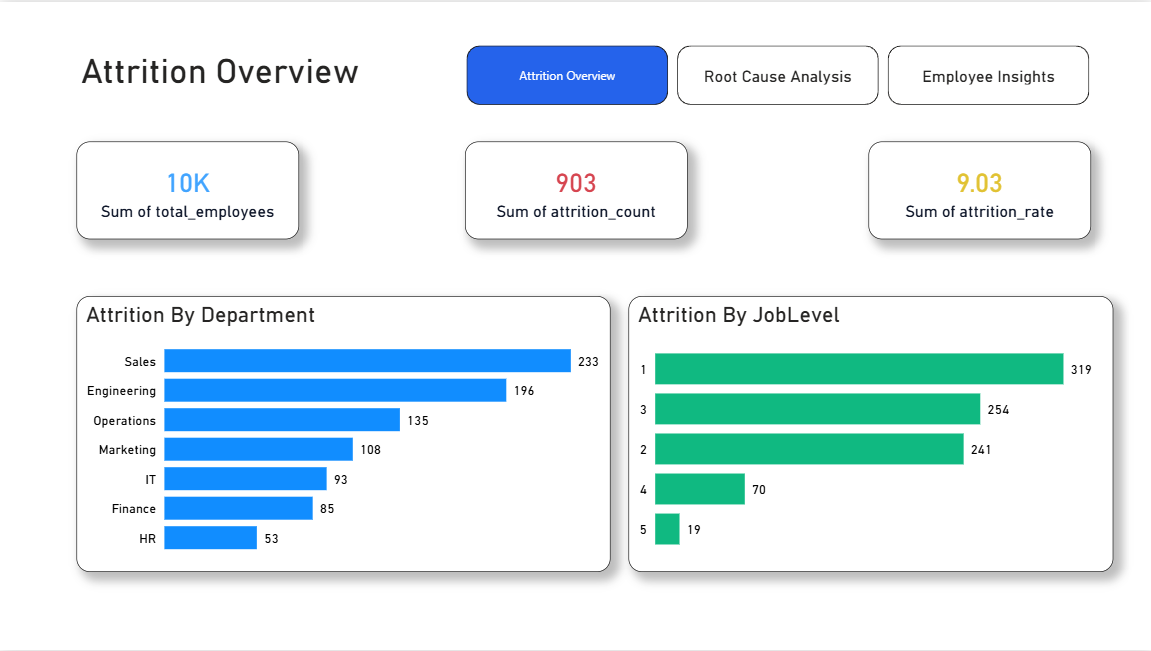

This screenshot's page, from the dashboard's own definition file:
{"tool":"powerbi","page":{"name":"Attrition Overview","canvas":[1280,720],"ordinal":0},"visuals":[{"type":"card","fields":{"Values":["Sum(attrition_overall.total_employees)"]},"box":[84.7,154.2,247.5,108.5],"z":0},{"type":"card","fields":{"Values":["Sum(attrition_overtime.attrition_count)"]},"box":[516.9,154.2,247.5,108.5],"z":1000},{"type":"card","fields":{"Values":["Sum(attrition_overall.attrition_rate)"]},"box":[964.4,154.2,247.5,108.5],"z":2000},{"type":"barChart","title":"Attrition By Department","fields":{"Category":["attrition_department.Department"],"Y":["Sum(attrition_department.attrition_count)"]},"box":[85.5,327.4,593.5,306.5],"z":3000},{"type":"barChart","title":"Attrition By JobLevel","fields":{"Category":["attrition_joblevel.JobLevel"],"Y":["Sum(attrition_joblevel.attrition_count)"]},"box":[698.4,327.4,538.7,306.5],"z":4000},{"type":"pageNavigator","box":[517.7,48.4,693.5,66.1],"z":5000},{"type":"textbox","box":[85.5,48.4,416.1,66.1],"z":6000}]}

Visuals, with their boxes in screenshot pixels (x1, y1, x2, y2), scaled from the page's 1280x720 canvas onto the 1151x651 screenshot:
card - Sum(attrition_overall.total_employees): [x1=76, y1=139, x2=299, y2=238]
card - Sum(attrition_overtime.attrition_count): [x1=465, y1=139, x2=687, y2=238]
card - Sum(attrition_overall.attrition_rate): [x1=867, y1=139, x2=1090, y2=238]
"Attrition By Department" barChart: [x1=77, y1=296, x2=611, y2=573]
"Attrition By JobLevel" barChart: [x1=628, y1=296, x2=1112, y2=573]
pageNavigator: [x1=466, y1=44, x2=1089, y2=104]
textbox: [x1=77, y1=44, x2=451, y2=104]
